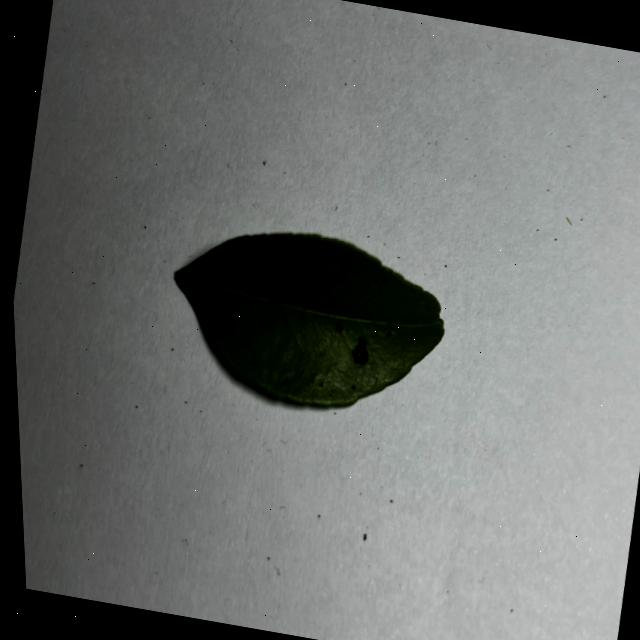sooty_mold: (174, 233, 443, 405)
